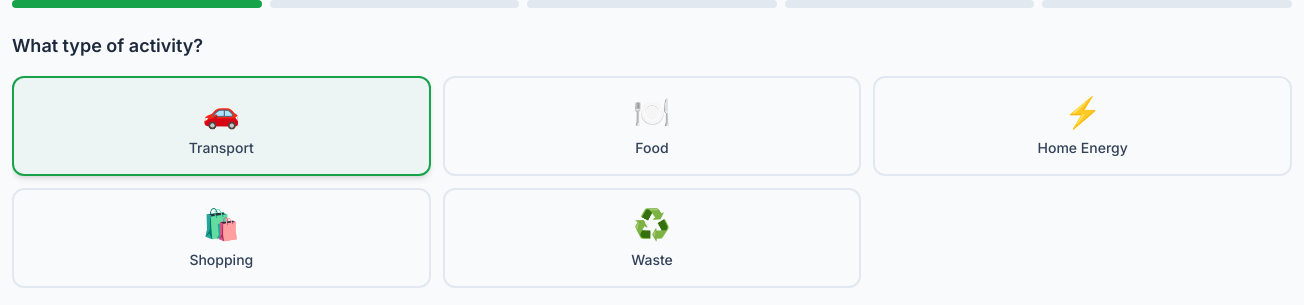
Test: ActivityForm › selecting a category shows subcategory dropdown
Click the button "🚗 Transport".
click(221, 126)  # box [12,76,431,176]
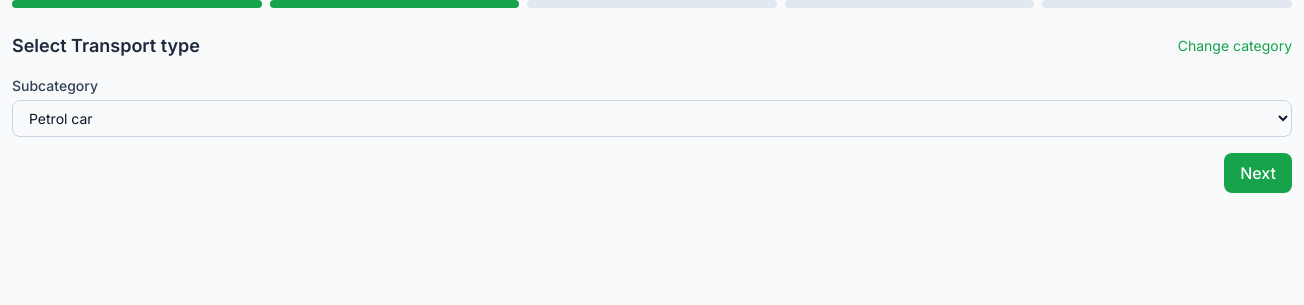
Result: the dropdown labelled "Subcategory" is shown at [12,100,1292,137]
